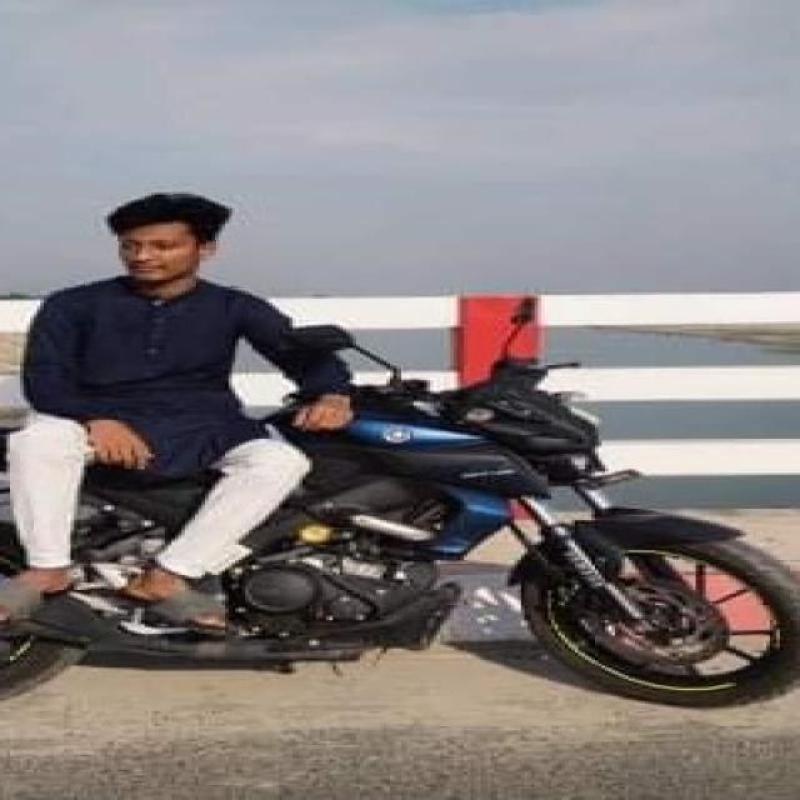nohelmet: (84, 189, 261, 291)
